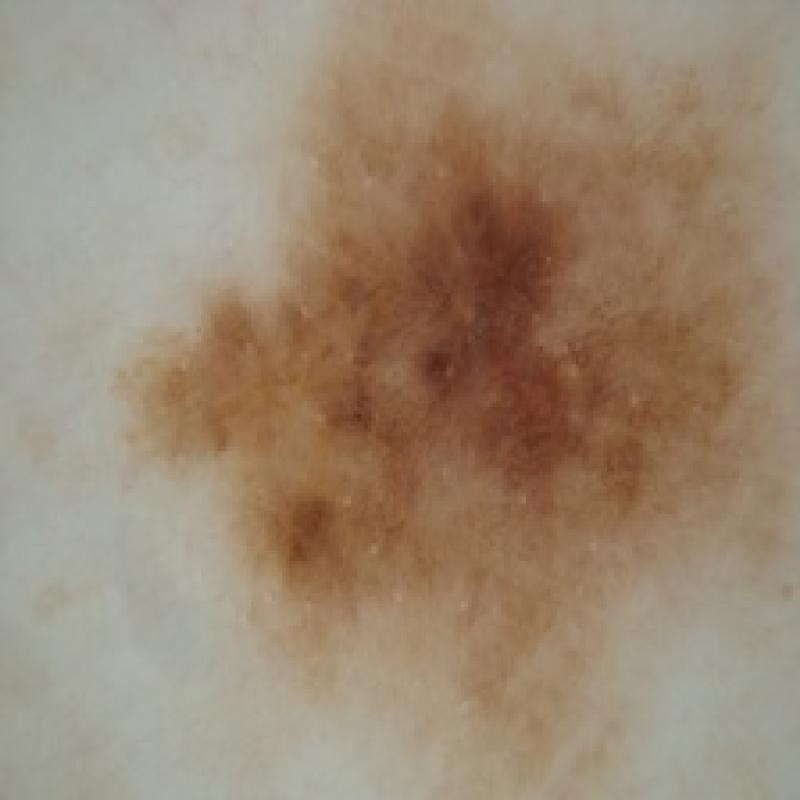malignant: (106, 41, 757, 722)
